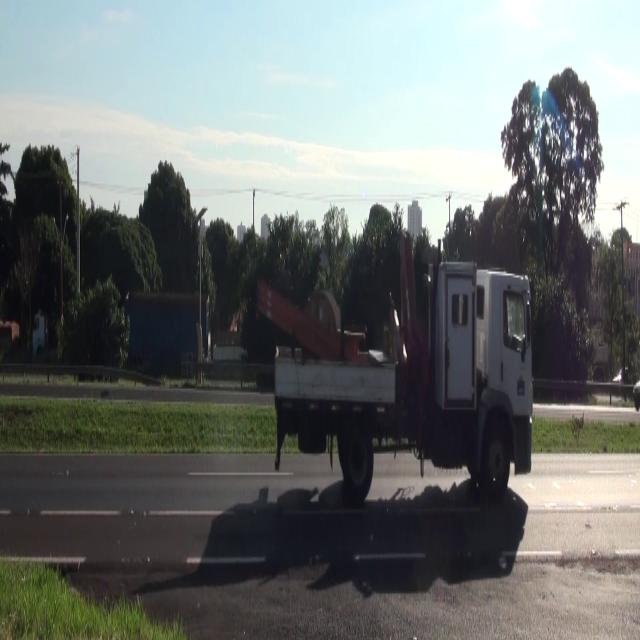-axle: (343, 420, 374, 502), (485, 423, 510, 497)
